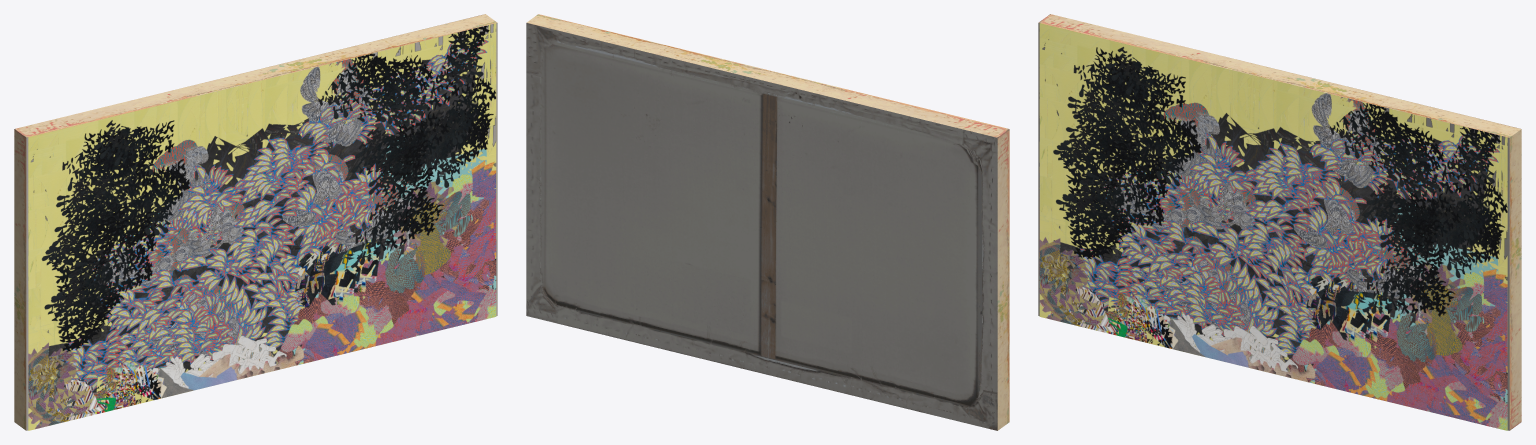
File: untitled-7e8dbac8.glb
3 views of the same model, side by side, from view 1: azimuth 30°, elevation 25°; view 2: azimuth 150°, elevation 25°; view 3: azimuth 330°, elevation 25° (orthographic).
Parts seen in each view (by area): view 1: Canvas, stretcher5by3; view 2: stretcher5by3; view 3: Canvas, stretcher5by3.
Part boxes in pixels (x1,y1,x2,y2): Canvas: (28,23,496,430); stretcher5by3: (14,14,497,430); stretcher5by3: (526,14,1009,430); Canvas: (1039,23,1507,430); stretcher5by3: (1038,14,1521,430).
Bounding box in the file's own units: 5.09 × 3.03 × 0.2302.
4 materials, 4 textured.
